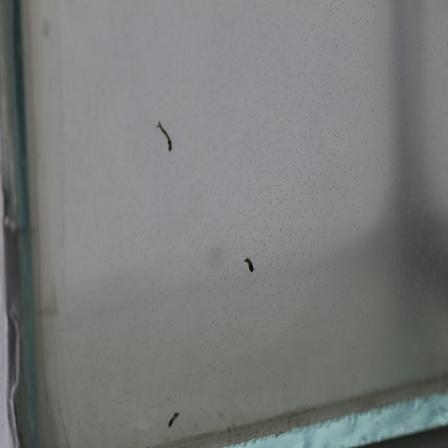Jentik-Nyamuk: (154, 117, 178, 157), (165, 404, 183, 431), (243, 253, 257, 275)
